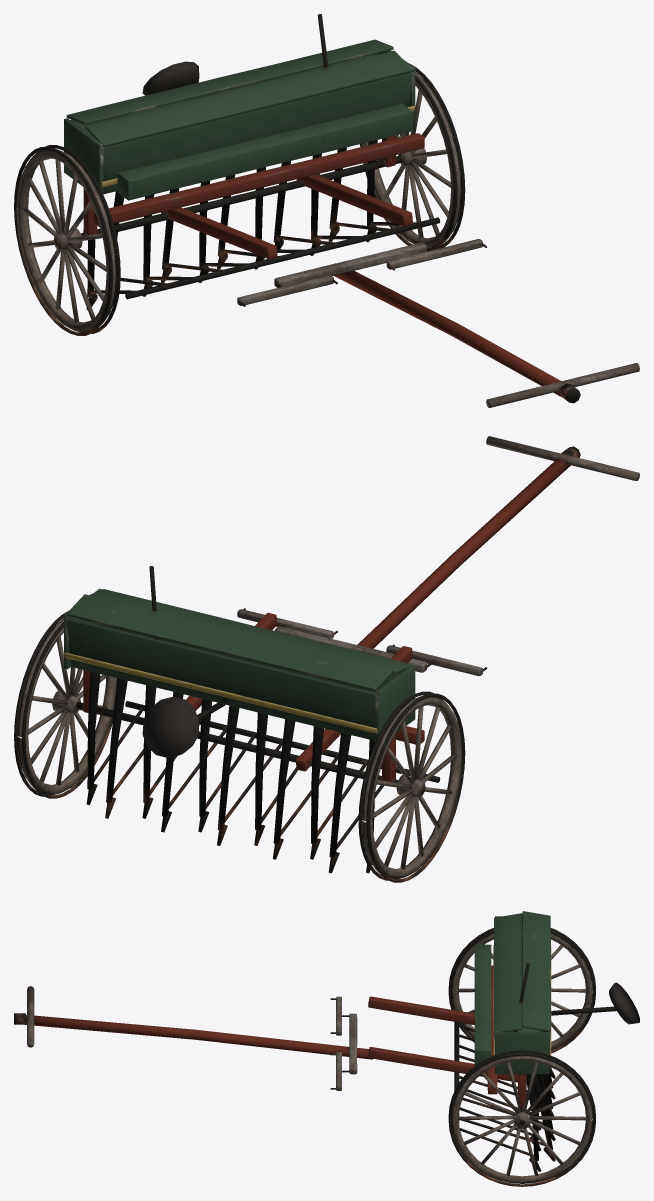
File: implement_seeder.glb
3 views of the same model, one above another, from view 1: azimuth 30°, elevation 25°; view 2: azimuth 150°, elevation 25°; view 3: azimuth 270°, elevation 25° (orthographic). The views are drawn at different scales.
Visible parts, largest first — view 1: Body_LOD0, Wheel_L_geo_LOD0, Wheel_R_geo_LOD0; view 2: Body_LOD0, Wheel_L_geo_LOD0, Wheel_R_geo_LOD0; view 3: Body_LOD0, Wheel_R_geo_LOD0, Wheel_L_geo_LOD0.
Boxes of the visible parts, x1,y1,x2,y2 form: Body_LOD0: [54, 14, 639, 407]; Wheel_L_geo_LOD0: [14, 145, 120, 335]; Wheel_R_geo_LOD0: [360, 63, 465, 251]; Body_LOD0: [63, 436, 639, 873]; Wheel_L_geo_LOD0: [358, 691, 465, 882]; Wheel_R_geo_LOD0: [14, 611, 117, 798]; Body_LOD0: [14, 911, 639, 1171]; Wheel_R_geo_LOD0: [448, 1050, 595, 1186]; Wheel_L_geo_LOD0: [448, 928, 595, 1053].
Size of what is drawn, in the model's own units: 2.7 by 1.75 by 5.26.
Materials: 1 (1 with a texture image).
